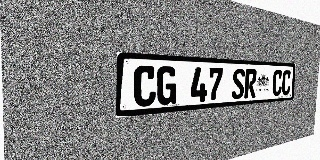4: (190, 67, 208, 103)
7: (207, 68, 223, 101)
C: (133, 65, 156, 107), (272, 70, 283, 96), (281, 70, 291, 95)
G: (156, 66, 177, 105)
R: (244, 69, 257, 98)
S: (231, 68, 245, 99)
